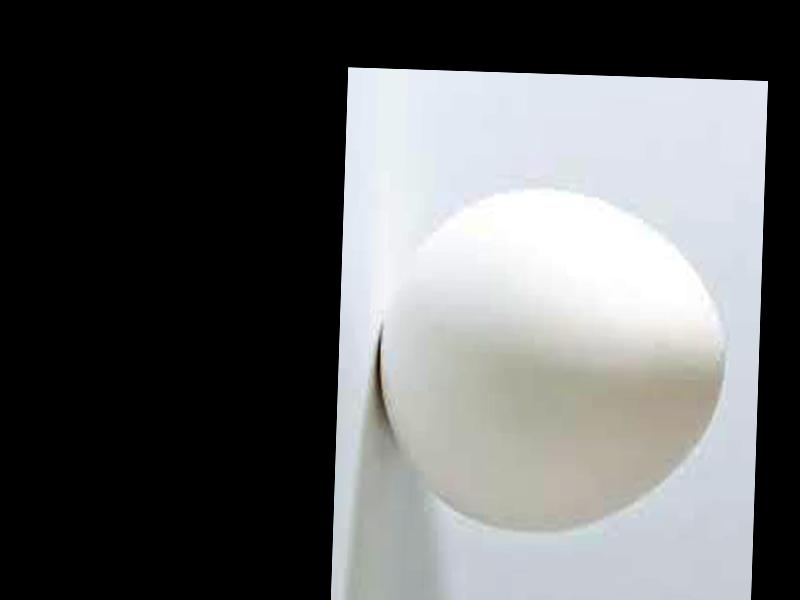Eggs: (374, 185, 732, 534)
